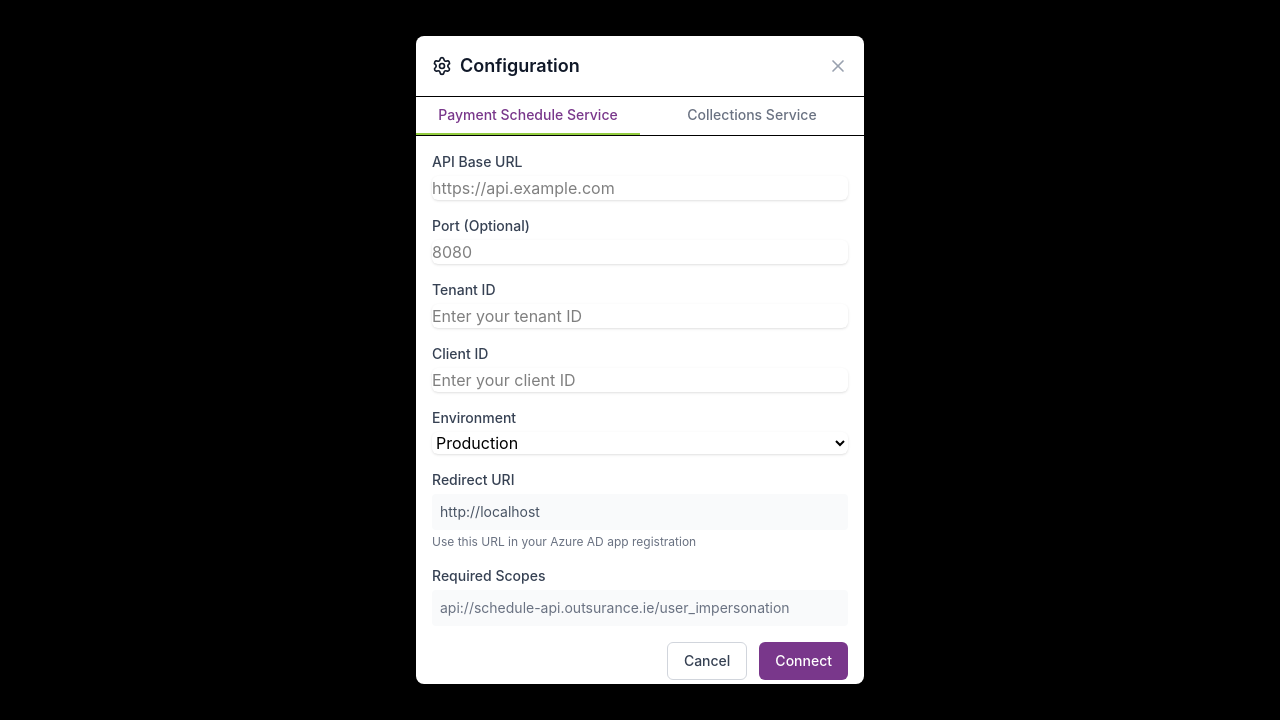
Test: ConfigDialog — Collections Service tab › signs out of the Collections Service, keeping its settings
Click the tab "Collections Service": (752, 116) [640,97,864,135]
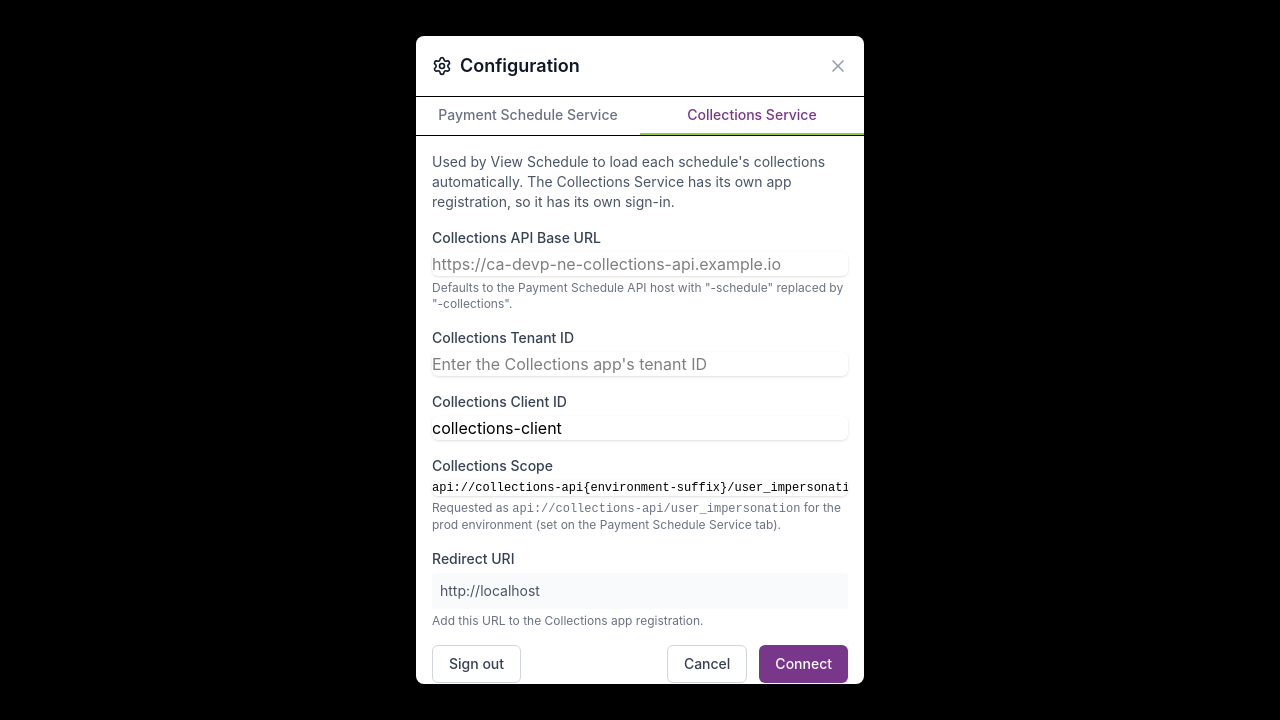
Click the button "Sign out": (476, 664) [432,645,521,683]
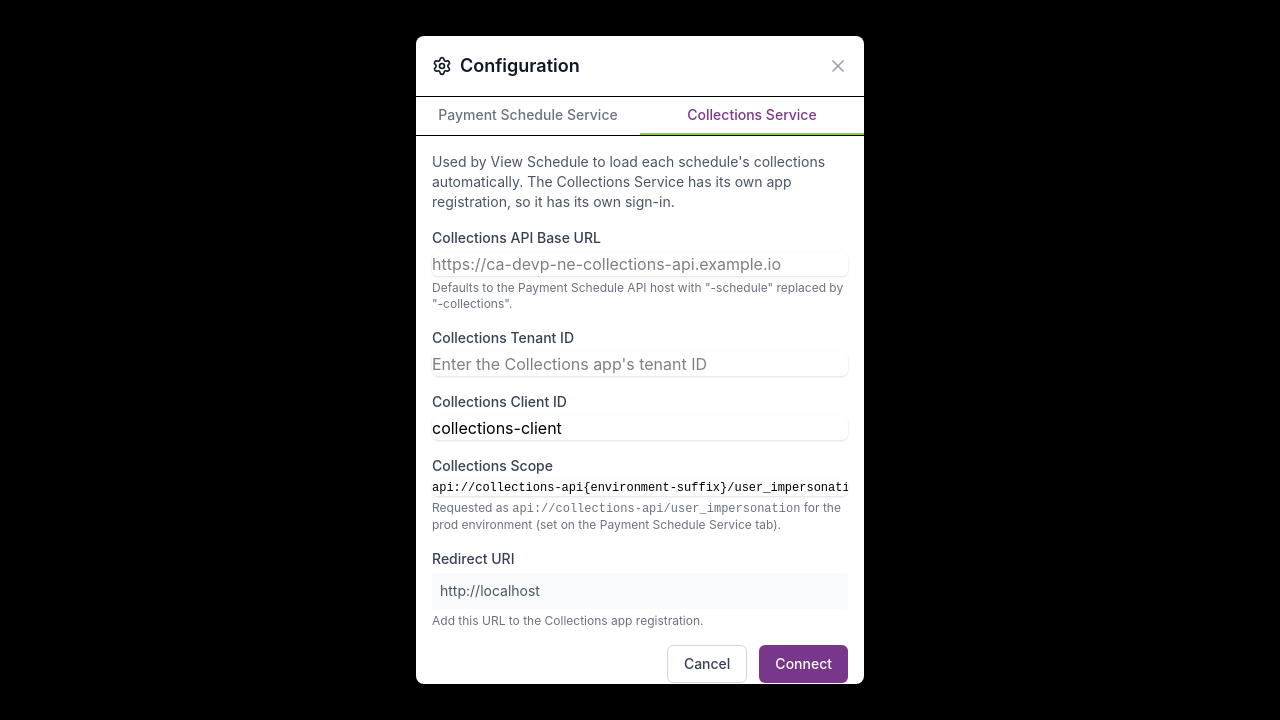
Check: the button "Sign out" is gone
